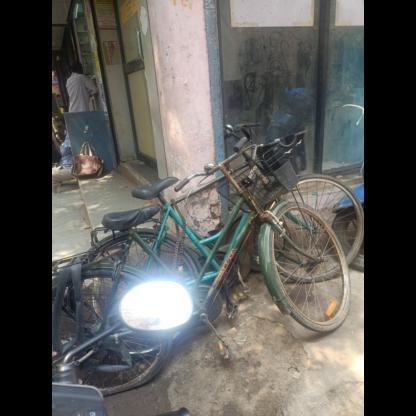Bicycle: (51, 145, 362, 376)
